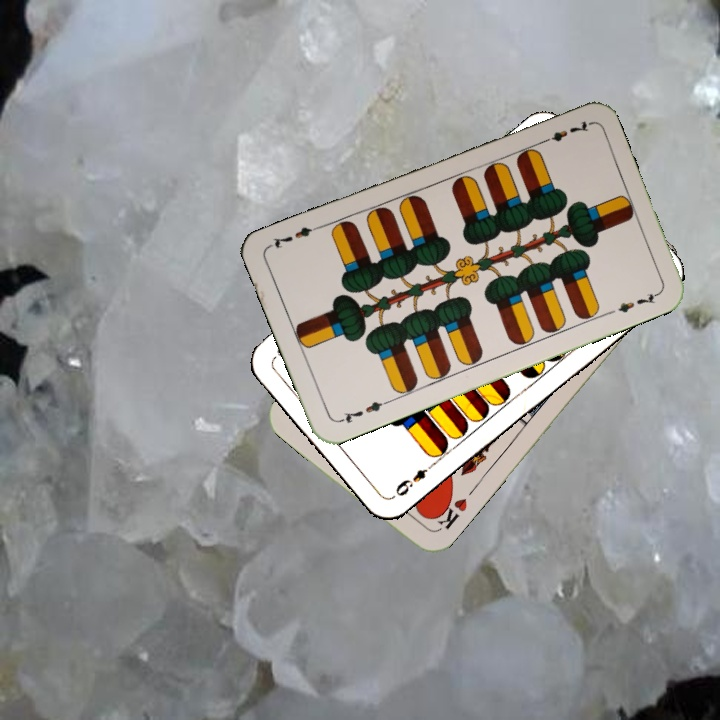E7: (334, 396, 391, 426), (536, 117, 592, 147)
E9: (388, 458, 438, 501)
HK: (428, 489, 470, 535)
